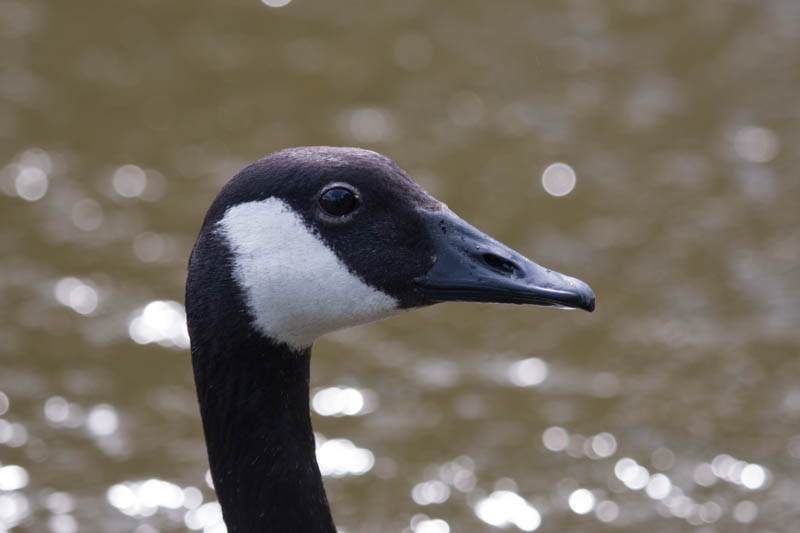goose-head: (186, 146, 598, 351)
